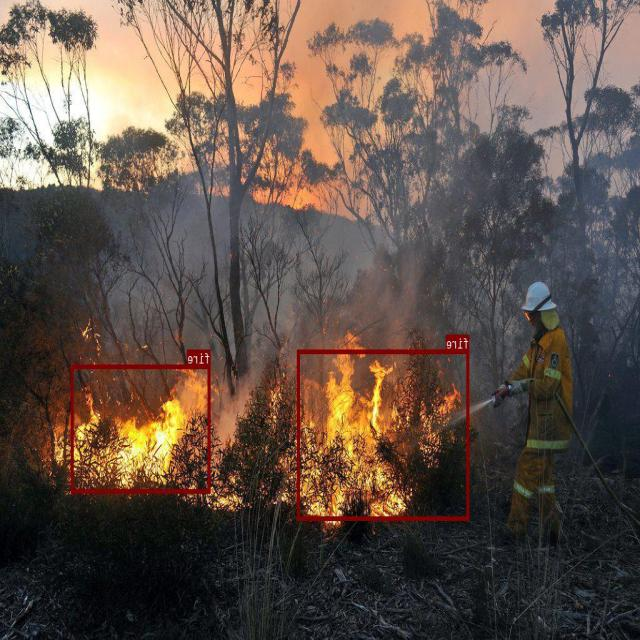fire: (298, 349, 469, 520), (72, 364, 210, 492)
